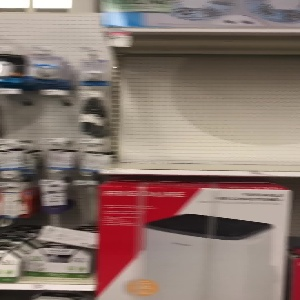void: (105, 36, 300, 172)
